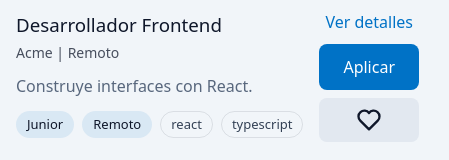
JobCard › al aplicar, el botón queda desactivado y la candidatura no se duplica
Click the button "Aplicar" at (369, 67), box [319,44,419,90]
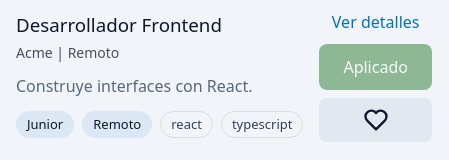
Now the button "Aplicado" is disabled, box [319,44,432,90]
